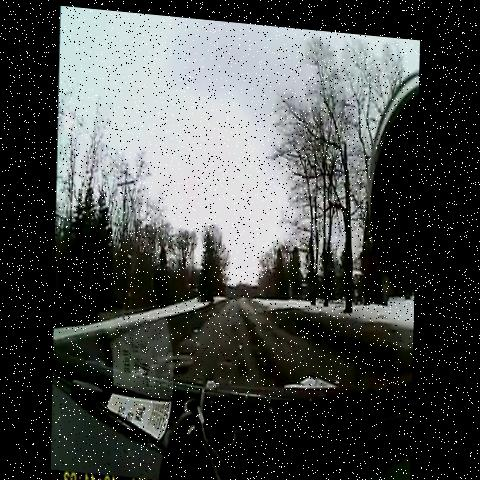pothole: (213, 343, 244, 378), (165, 346, 192, 379), (251, 334, 273, 372), (233, 291, 254, 318)
